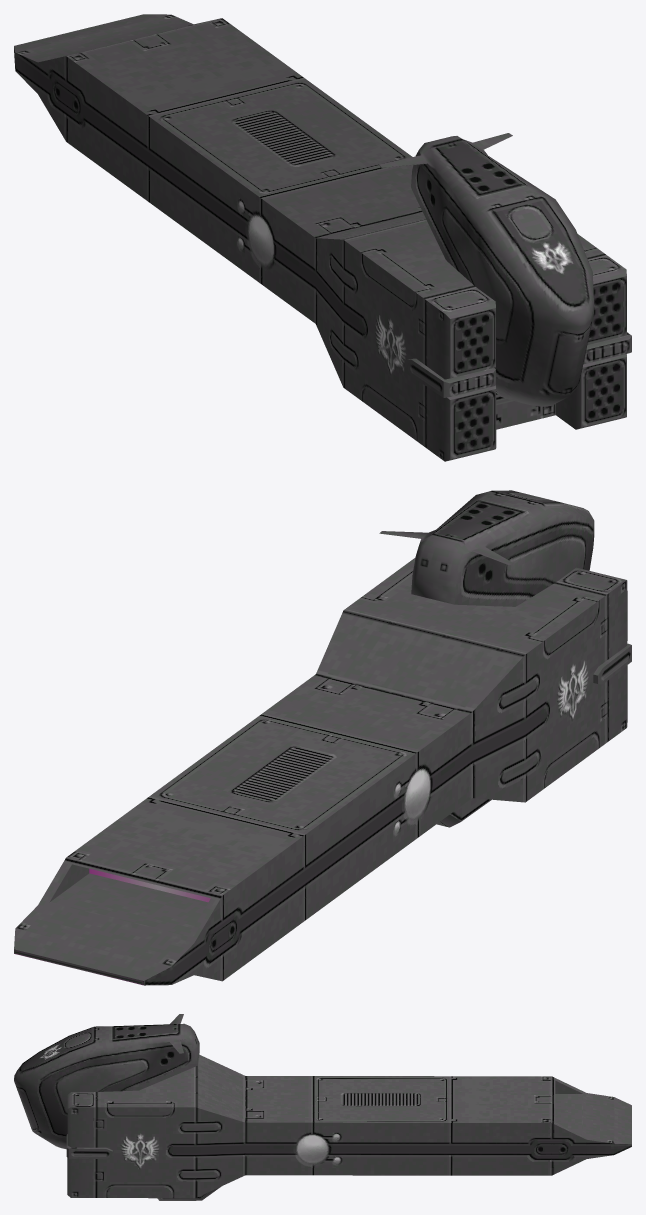
File: empire_destroyer.obj
3 renders of one model, top to bottom at view 1: azimuth 30°, elevation 25°; view 2: azimuth 150°, elevation 25°; view 3: azimuth 270°, elevation 25°, orthographic. The views are drawn at different scales.
Parts seen in each view (by area): view 1: empire_destroyer; view 2: empire_destroyer; view 3: empire_destroyer.
Part boxes in pixels (x1,y1,x2,y2): empire_destroyer: (14,14,631,461); empire_destroyer: (14,490,631,985); empire_destroyer: (14,1014,631,1200).
Size of the model in its own units: 18.62 by 25.32 by 85.
